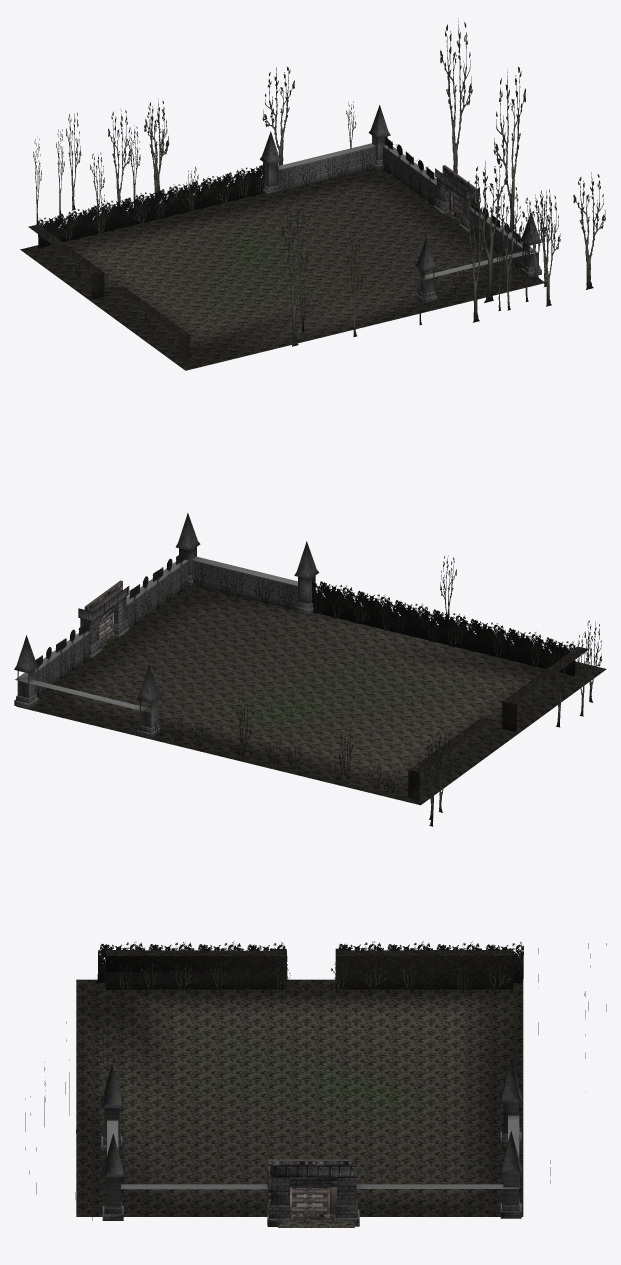
File: room_4.glb
The picture shows the model from 3 angles, top to bottom: view 1: azimuth 30°, elevation 25°; view 2: azimuth 150°, elevation 25°; view 3: azimuth 270°, elevation 25°; orthographic projection. The views are drawn at different scales.
Parts seen in each view (by area): view 1: ground, closebushes1, polySurface34, polySurface47, pPlane50__billboard, pPlane392__billboard, pPlane274__billboard, polySurface37, pPlane271__billboard, pPlane420__billboard, polySurface36, pPlane269__billboard (+11 smaller); view 2: ground, closebushes, polySurface47, polySurface34, polySurface36, polySurface37, rooftower_7, rooftower_9, rooftower_8, rooftower_6; view 3: ground, polySurface36, polySurface37, closebushes3, rooftower_6, rooftower_7, rooftower_3, polySurface47, closebushes2, polySurface34, pCube131, pocket (+4 smaller).
Part boxes in pixels (x1,y1,x2,y2): ground: (20,169,543,370); closebushes1: (38,164,264,248); polySurface34: (278,143,436,205); polySurface47: (419,208,536,279); pPlane50__billboard: (493,67,525,232); pPlane392__billboard: (440,18,472,173); pPlane274__billboard: (468,160,507,302); polySurface37: (28,224,104,299); pPlane271__billboard: (462,176,489,322); pPlane420__billboard: (281,201,308,346); polySurface36: (110,286,189,361); pPlane269__billboard: (573,172,605,289); ground: (16,585,606,805); closebushes: (312,578,575,675); polySurface47: (126,556,311,627); polySurface34: (15,631,147,711); polySurface36: (502,646,587,731); polySurface37: (408,717,496,800); rooftower_7: (14,635,38,703); rooftower_9: (136,665,161,733); rooftower_8: (294,541,319,609); rooftower_6: (176,513,200,581); ground: (76,979,523,1216); polySurface36: (105,949,287,989); polySurface37: (335,948,513,989); closebushes3: (337,941,523,982); rooftower_6: (102,1133,124,1214); rooftower_7: (500,1131,522,1211); rooftower_3: (290,1177,357,1218); polySurface47: (107,1120,270,1189); closebushes2: (97,941,285,982); polySurface34: (356,1114,519,1188); pCube131: (270,1164,356,1177); pocket: (267,1159,353,1217).
Bounding box in the file's own units: 250 × 114 × 226.
Materials: 22 (20 with a texture image).
